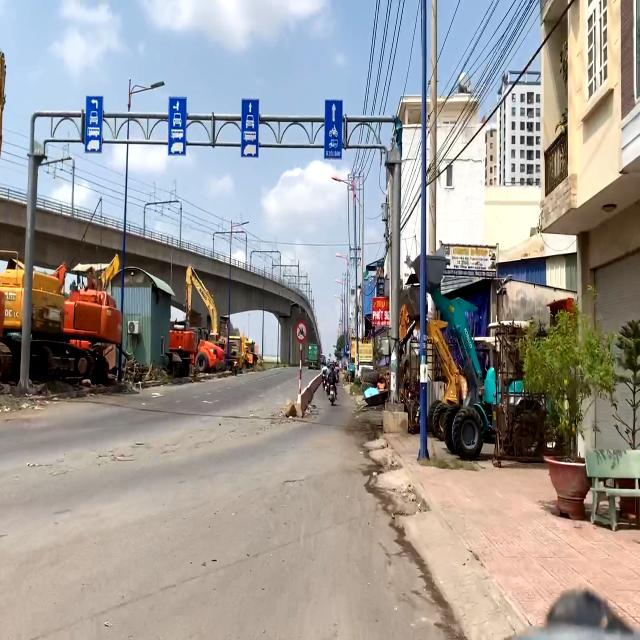P.104: (295, 320, 308, 343)
